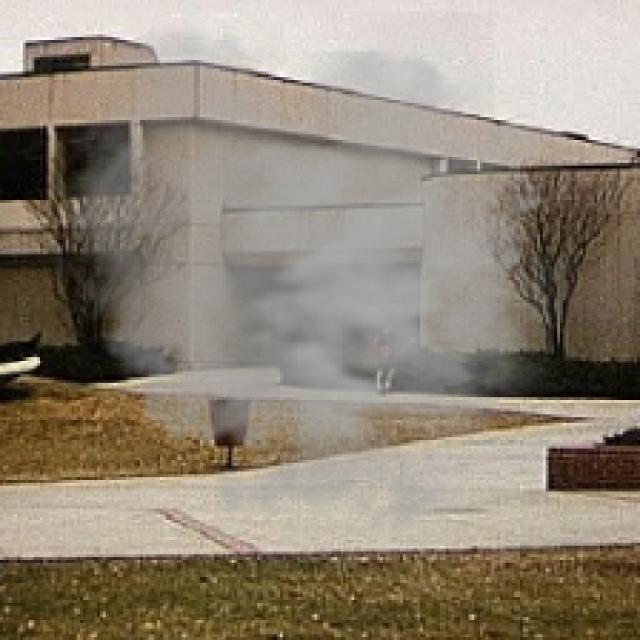smoke: (40, 11, 591, 552)
